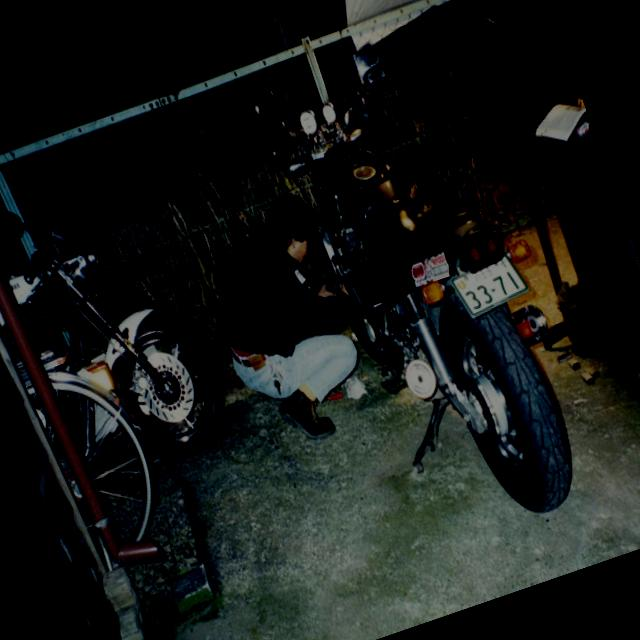Vehicle: (236, 14, 598, 566), (0, 165, 241, 492)
